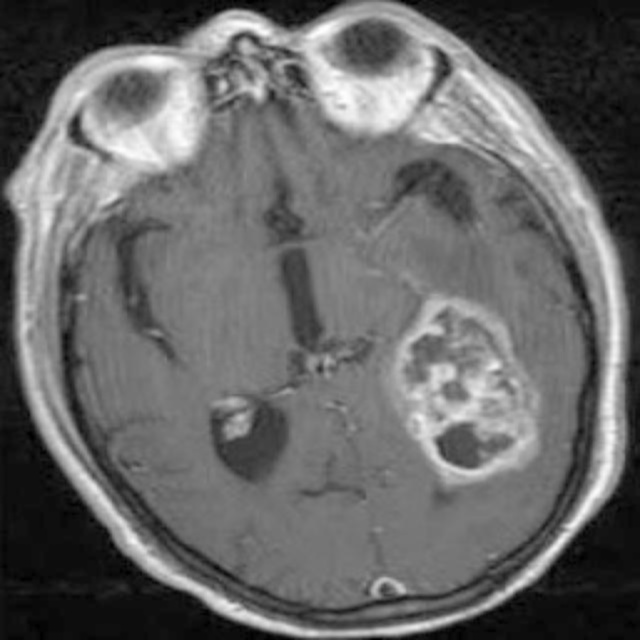meningioma tumor: (384, 292, 546, 498)
